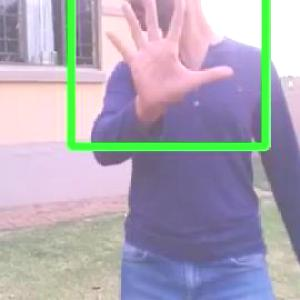follow_hand: (100, 0, 238, 108)
